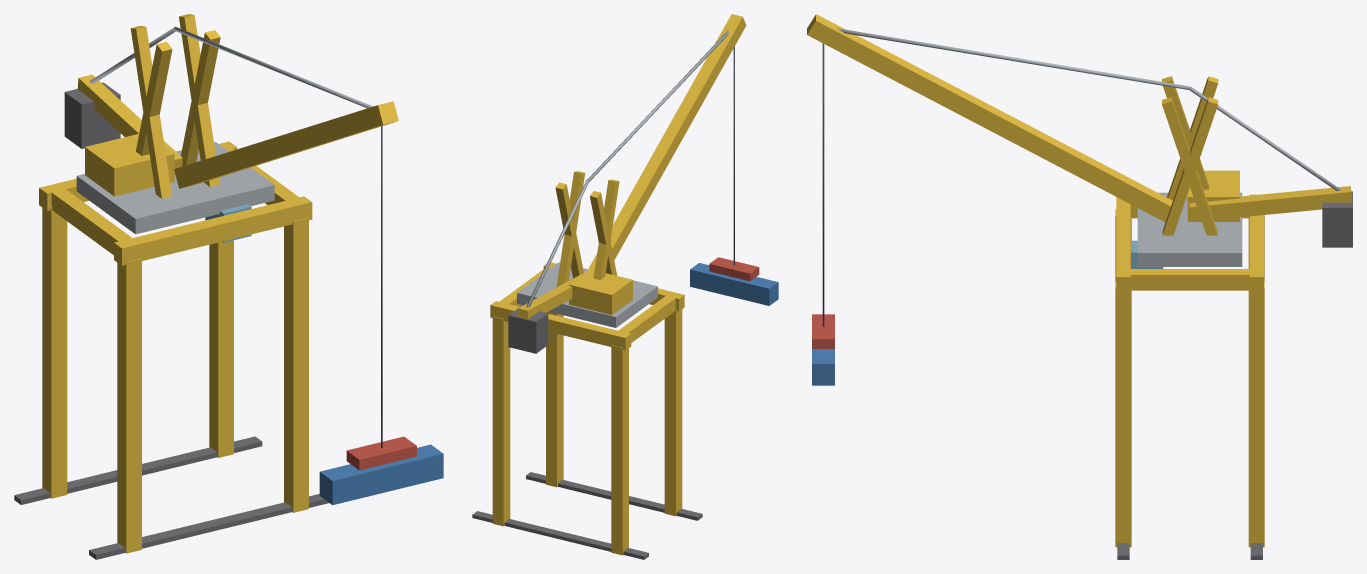
File: port_crane.glb
3 views of the same model, side by side, from view 1: azimuth 30°, elevation 25°; view 2: azimuth 150°, elevation 25°; view 3: azimuth 270°, elevation 25° (orthographic). The views are drawn at different scales.
Visible parts, largest first — view 1: crane_leg.001, crane_leg, crane_leg.002, crane_deck, crane_leg.003, crane_jib, crane_beam, crane_load, crane_machine, crane_aframe_b, crane_rail, crane_cross (+11 smaller); view 2: crane_jib, crane_leg.003, crane_leg, crane_leg.001, crane_leg.002, crane_deck, crane_machine, crane_load, crane_beam.001, crane_counterweight, crane_rail.001, crane_cross (+11 smaller); view 3: crane_jib, crane_deck, crane_leg.002, crane_leg.003, crane_counterjib, crane_cross.001, crane_aframe.001, crane_aframe_b.001, crane_tie_a, crane_counterweight, crane_beam, crane_machine (+7 smaller).
Part boxes in pixels (x1,y1,x2,y2): crane_leg.001: [42, 207, 67, 498]; crane_leg: [117, 258, 141, 553]; crane_leg.002: [284, 217, 308, 512]; crane_deck: [76, 142, 274, 234]; crane_leg.003: [209, 240, 233, 457]; crane_jib: [174, 101, 398, 188]; crane_beam: [114, 196, 312, 265]; crane_load: [319, 444, 443, 505]; crane_machine: [85, 134, 174, 196]; crane_aframe_b: [130, 26, 171, 198]; crane_rail: [89, 494, 328, 559]; crane_cross: [44, 184, 139, 261]; crane_jib: [587, 14, 746, 271]; crane_leg.003: [492, 316, 510, 526]; crane_leg: [664, 308, 682, 516]; crane_leg.001: [611, 345, 628, 555]; crane_leg.002: [546, 311, 563, 487]; crane_deck: [517, 262, 657, 327]; crane_machine: [569, 269, 632, 314]; crane_load: [690, 263, 778, 305]; crane_beam.001: [490, 301, 631, 350]; crane_counterweight: [508, 306, 548, 353]; crane_rail.001: [472, 511, 648, 559]; crane_cross: [612, 296, 675, 346]; crane_jib: [807, 14, 1172, 222]; crane_deck: [1137, 192, 1242, 266]; crane_leg.002: [1115, 281, 1131, 547]; crane_leg.003: [1248, 281, 1264, 547]; crane_counterjib: [1189, 186, 1351, 221]; crane_cross.001: [1130, 269, 1249, 290]; crane_aframe.001: [1162, 97, 1217, 235]; crane_aframe_b.001: [1162, 97, 1218, 235]; crane_tie_a: [837, 28, 1190, 89]; crane_counterweight: [1322, 191, 1352, 247]; crane_beam: [1116, 197, 1130, 292]; crane_machine: [1187, 170, 1239, 221].
Size of the model in its own units: 26 by 56.82 by 57.33.
